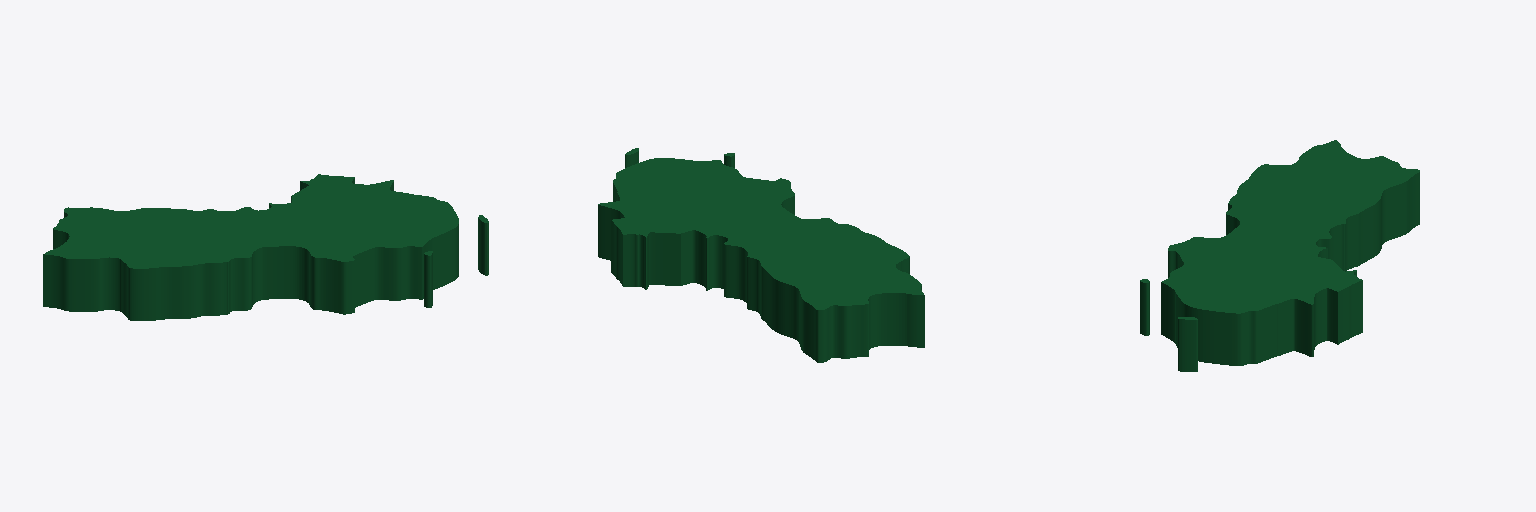
3 views of the same model, side by side, from view 1: azimuth 30°, elevation 25°; view 2: azimuth 150°, elevation 25°; view 3: azimuth 270°, elevation 25° (orthographic).
Visible parts, largest first — view 1: Curve.042_path4266; view 2: Curve.042_path4266; view 3: Curve.042_path4266.
Boxes of the visible parts, x1,y1,x2,y2 form: Curve.042_path4266: [43, 174, 488, 320]; Curve.042_path4266: [598, 148, 924, 362]; Curve.042_path4266: [1140, 140, 1419, 371].
Size of the model in its own units: 0.7348 by 0.1 by 0.4831.